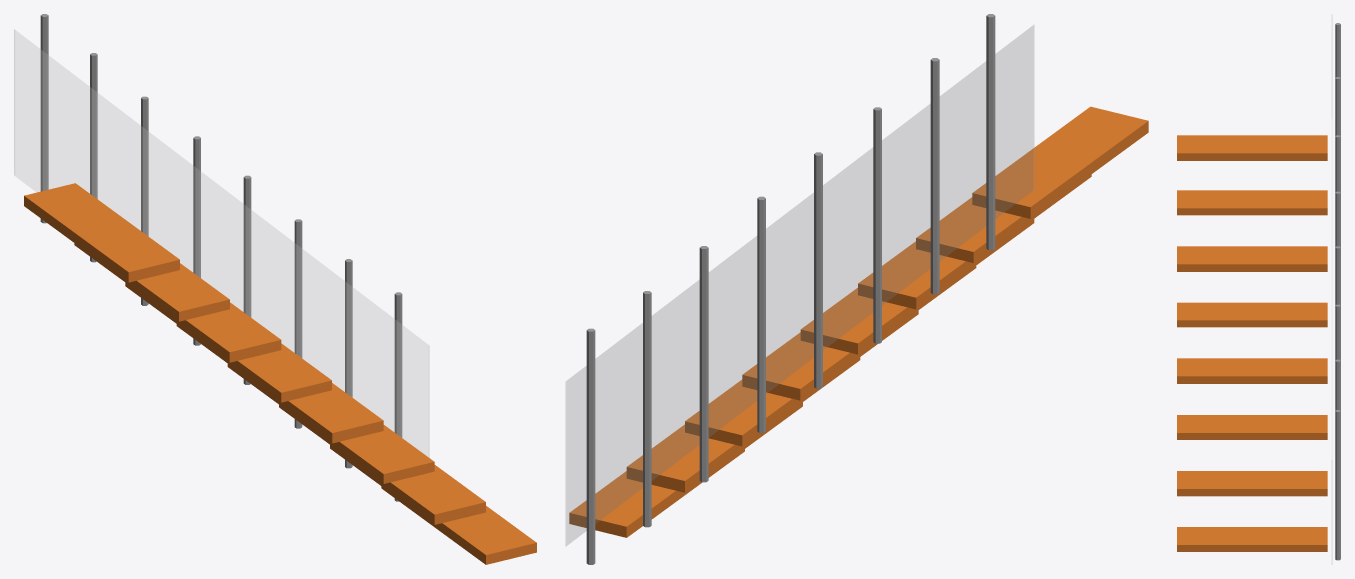
File: Stairs.fbx
3 views of the same model, side by side, from view 1: azimuth 30°, elevation 25°; view 2: azimuth 150°, elevation 25°; view 3: azimuth 270°, elevation 25° (orthographic). The views are drawn at different scales.
Parts seen in each view (by area): view 1: 立方体.013, 立方体.012, 円柱.011; view 2: 立方体.013, 立方体.012, 円柱.011; view 3: 立方体.012, 円柱.011, 立方体.013.
Part boxes in pixels (bbox=[...]): 立方体.013: bbox=[14, 29, 429, 457]; 立方体.012: bbox=[24, 183, 536, 564]; 円柱.011: bbox=[40, 14, 402, 501]; 立方体.013: bbox=[565, 25, 1034, 546]; 立方体.012: bbox=[569, 106, 1148, 537]; 円柱.011: bbox=[586, 14, 995, 564]; 立方体.012: bbox=[1177, 135, 1327, 551]; 円柱.011: bbox=[1335, 23, 1340, 560]; 立方体.013: bbox=[1331, 14, 1332, 564].
Bounding box in the file's own units: 1631 × 2148 × 775.
